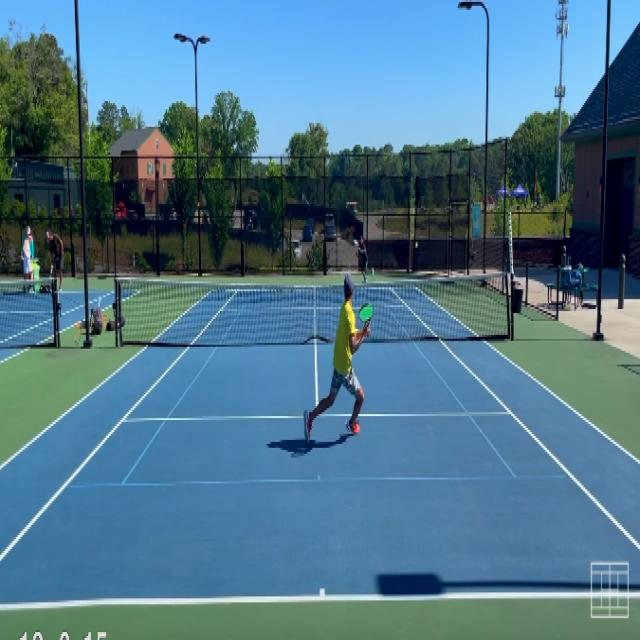ball: (414, 240, 419, 248)
